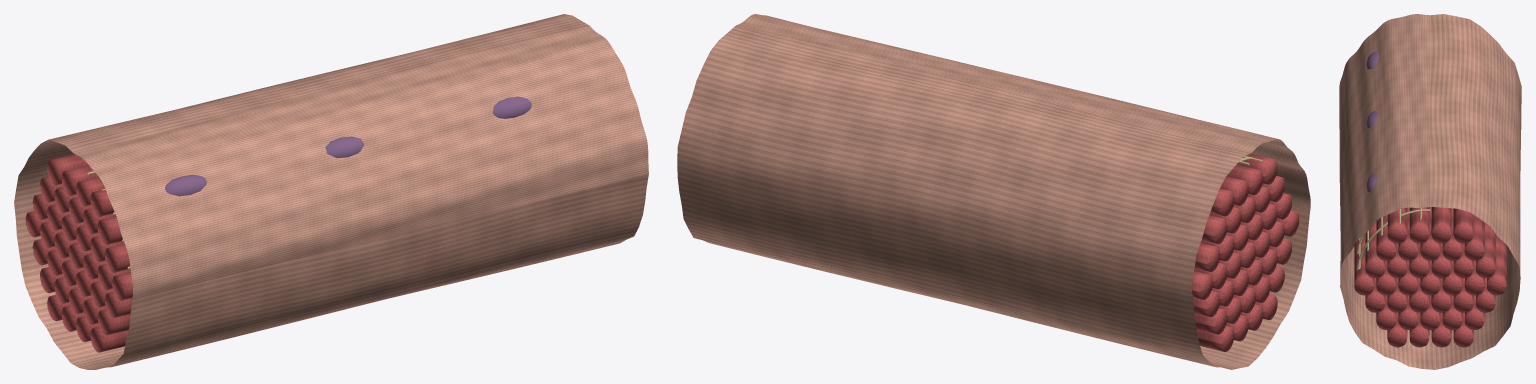
The model's file is fiber.glb.
3 renders of one model, left to right at view 1: azimuth 30°, elevation 25°; view 2: azimuth 150°, elevation 25°; view 3: azimuth 270°, elevation 25°, orthographic. The views are drawn at different scales.
Visible parts, largest first — view 1: Sarcolemme_volet, Sarcolemme_coupe, Myofibrille_00, Noyau; view 2: Sarcolemme_coupe, Myofibrille_00, Sarcolemme_volet; view 3: Sarcolemme_coupe, Sarcolemme_volet, Myofibrille_00, Noyau, Reticulum_transversal.
Boxes of the visible parts, x1,y1,x2,y2 form: Sarcolemme_volet: (74,26,648,299); Sarcolemme_coupe: (14,14,648,369); Myofibrille_00: (25,154,132,352); Noyau: (165,96,531,196); Sarcolemme_coupe: (677,25,1309,369); Myofibrille_00: (1192,153,1299,351); Sarcolemme_volet: (736,14,1310,213); Sarcolemme_coupe: (1340,14,1521,369); Sarcolemme_volet: (1339,14,1430,286); Myofibrille_00: (1354,207,1506,347); Noyau: (1366,51,1378,192); Reticulum_transversal: (1356,208,1430,270).
Size of the model in its own units: 6.2 by 2.45 by 2.48.
Materials: 5 (2 with a texture image).
